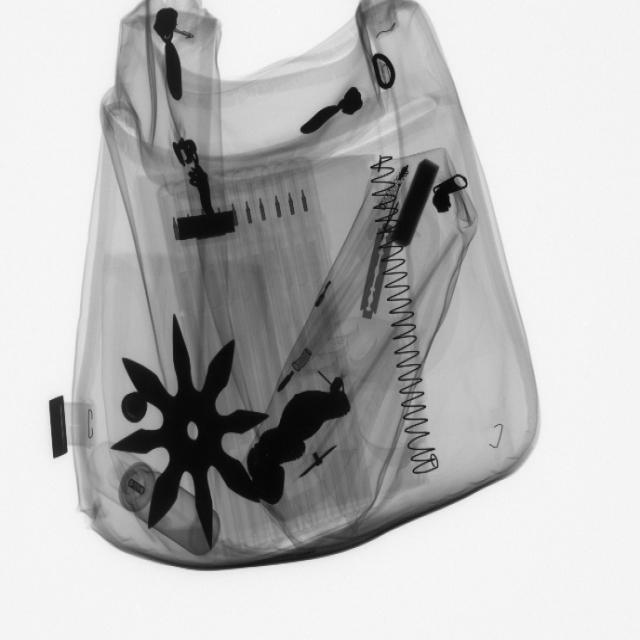BLADE: (357, 221, 400, 325)
SHURIKEN: (107, 310, 271, 550)
